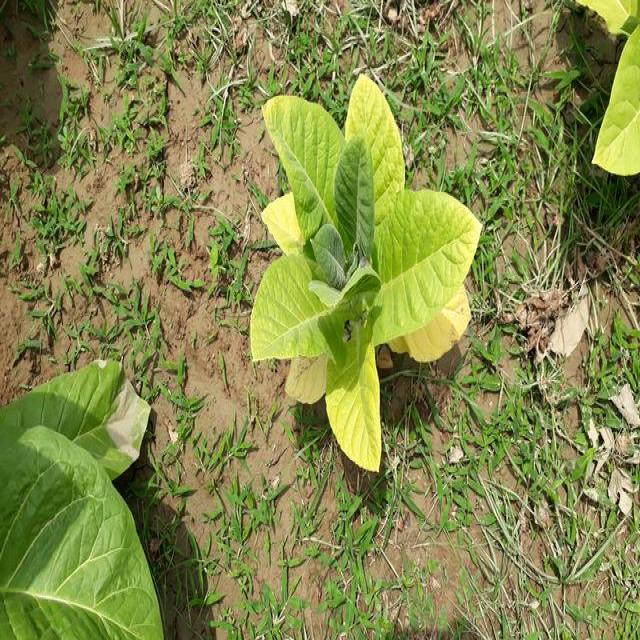crop: (258, 86, 482, 467), (0, 351, 152, 640), (583, 0, 639, 177)
